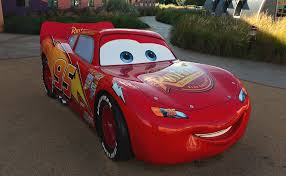mcqueen: (37, 18, 252, 164)
